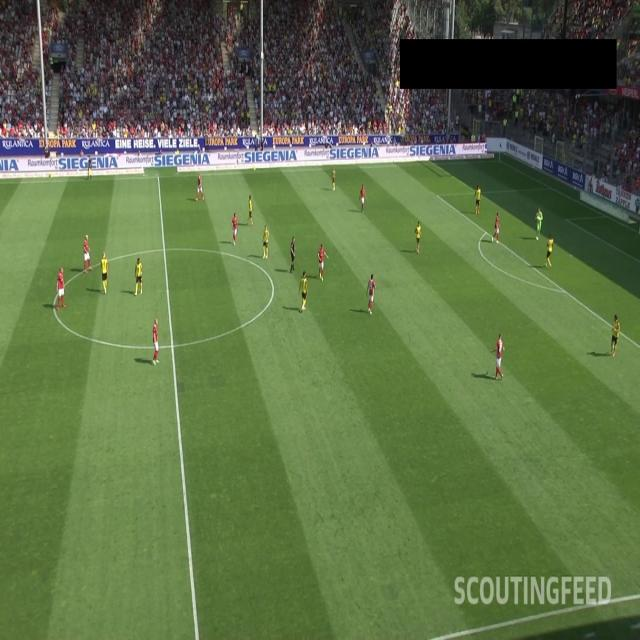ball: (536, 212, 542, 222)
player: (611, 311, 621, 358), (495, 331, 504, 381), (57, 266, 67, 308), (83, 228, 92, 271), (100, 252, 109, 295), (152, 318, 160, 364), (301, 270, 309, 315), (135, 255, 144, 293), (368, 272, 376, 312), (318, 243, 327, 277), (262, 223, 270, 260), (534, 206, 542, 242), (474, 185, 482, 217), (546, 234, 554, 265), (196, 173, 205, 200), (246, 194, 254, 223), (232, 210, 238, 247), (494, 211, 500, 245), (415, 219, 421, 250), (360, 186, 365, 214), (332, 166, 337, 189)
